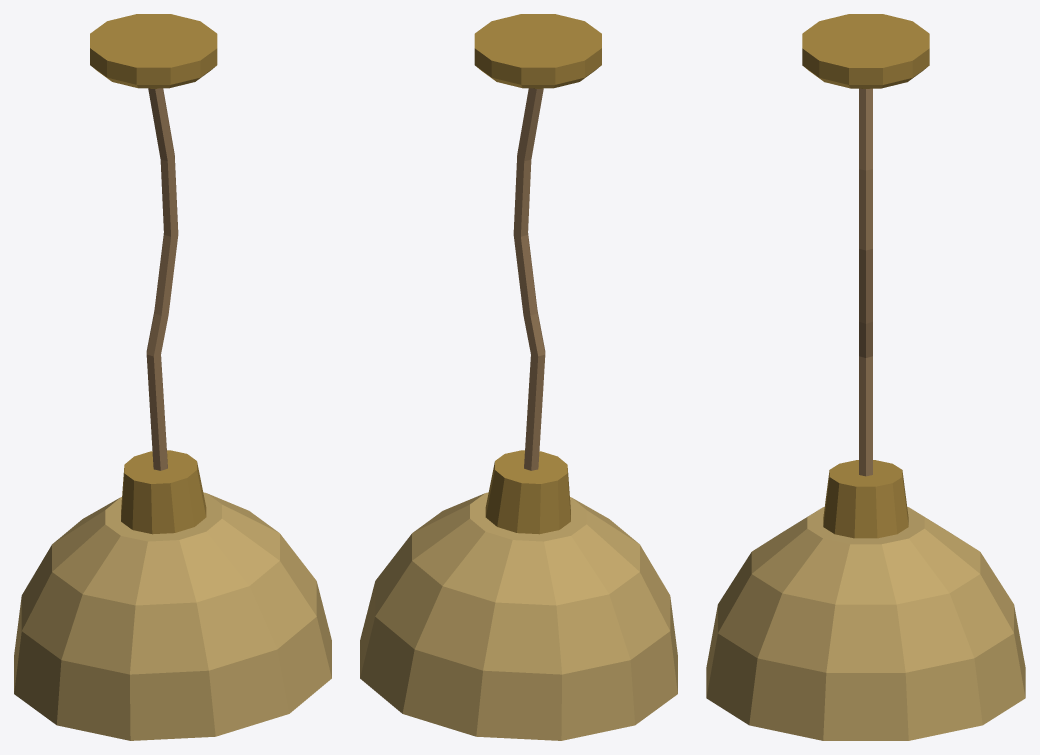
File: ceiling-pendant-d21307.glb
3 renders of one model, left to right at view 1: azimuth 30°, elevation 25°; view 2: azimuth 150°, elevation 25°; view 3: azimuth 270°, elevation 25°, orthographic.
Visible parts, largest first — view 1: pendant, ceiling-pendant; view 2: pendant, ceiling-pendant; view 3: pendant, ceiling-pendant.
Boxes of the visible parts, x1,y1,x2,y2 form: pendant: (14,88,331,740); ceiling-pendant: (90,14,217,88); pendant: (360,88,677,740); ceiling-pendant: (474,14,601,88); pendant: (706,88,1025,740); ceiling-pendant: (802,14,929,88).
Bounding box in the file's own units: 0.2699 × 0.6 × 0.2705.
